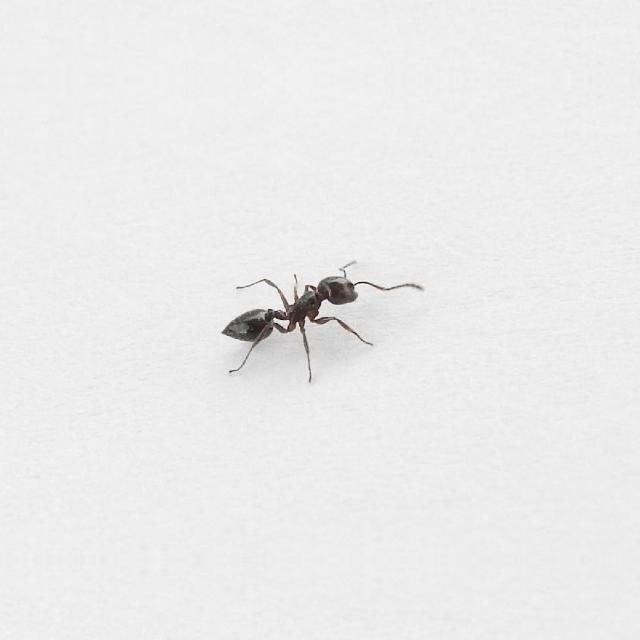Crematogaster: (222, 262, 378, 356)
